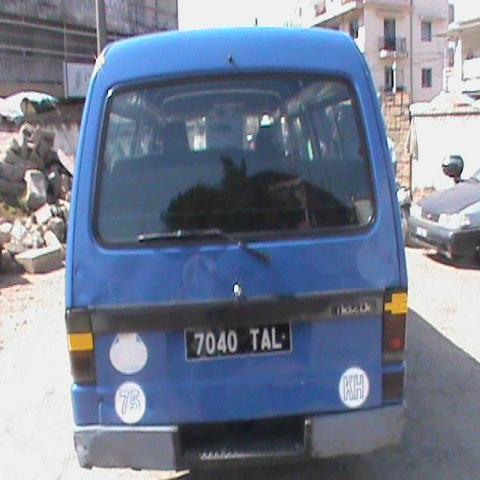van: (65, 29, 411, 477)
